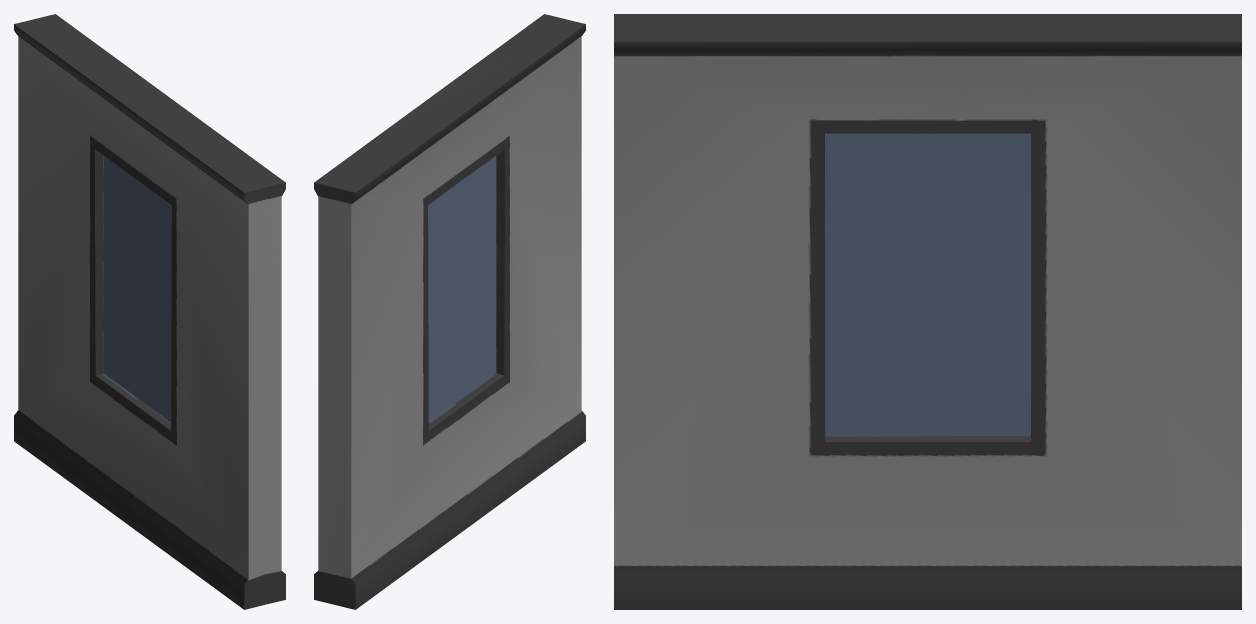
The model's file is Neo_WallWindow_01_snaps001.fbx.
The picture shows the model from 3 angles, left to right: view 1: azimuth 30°, elevation 25°; view 2: azimuth 150°, elevation 25°; view 3: azimuth 270°, elevation 25°; orthographic projection. The views are drawn at different scales.
Parts seen in each view (by area): view 1: Neo_WallWindow_01_snaps001; view 2: Neo_WallWindow_01_snaps001; view 3: Neo_WallWindow_01_snaps001.
Boxes of the visible parts, left/top/right/bottom form: Neo_WallWindow_01_snaps001: left=14, top=14, right=285, bottom=609; Neo_WallWindow_01_snaps001: left=314, top=14, right=585, bottom=609; Neo_WallWindow_01_snaps001: left=614, top=14, right=1241, bottom=609.
Bounding box in the file's own units: 0.3125 × 3 × 3.
